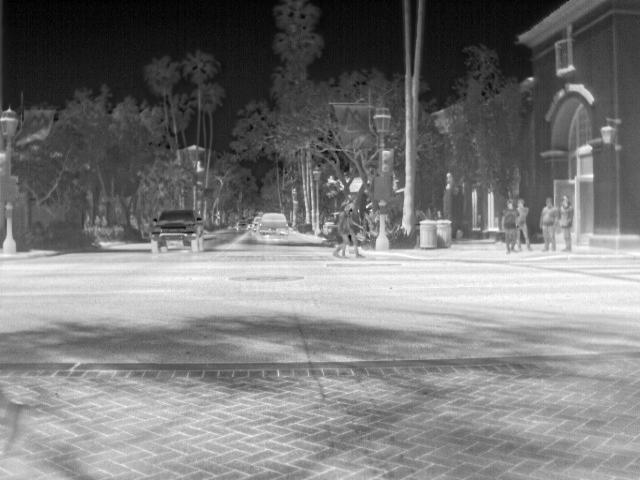car: (150, 209, 205, 252), (257, 211, 293, 240), (250, 215, 263, 235), (234, 218, 250, 232)
person: (346, 202, 368, 260), (330, 202, 350, 258), (513, 196, 533, 251), (539, 196, 557, 253), (557, 193, 574, 251), (501, 200, 518, 256), (81, 213, 93, 229), (92, 214, 104, 227), (99, 214, 108, 228)
